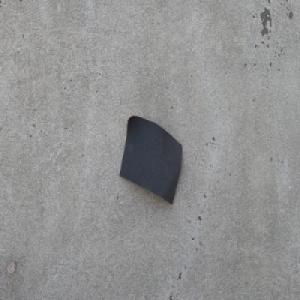PaintChip: (118, 114, 183, 205)
